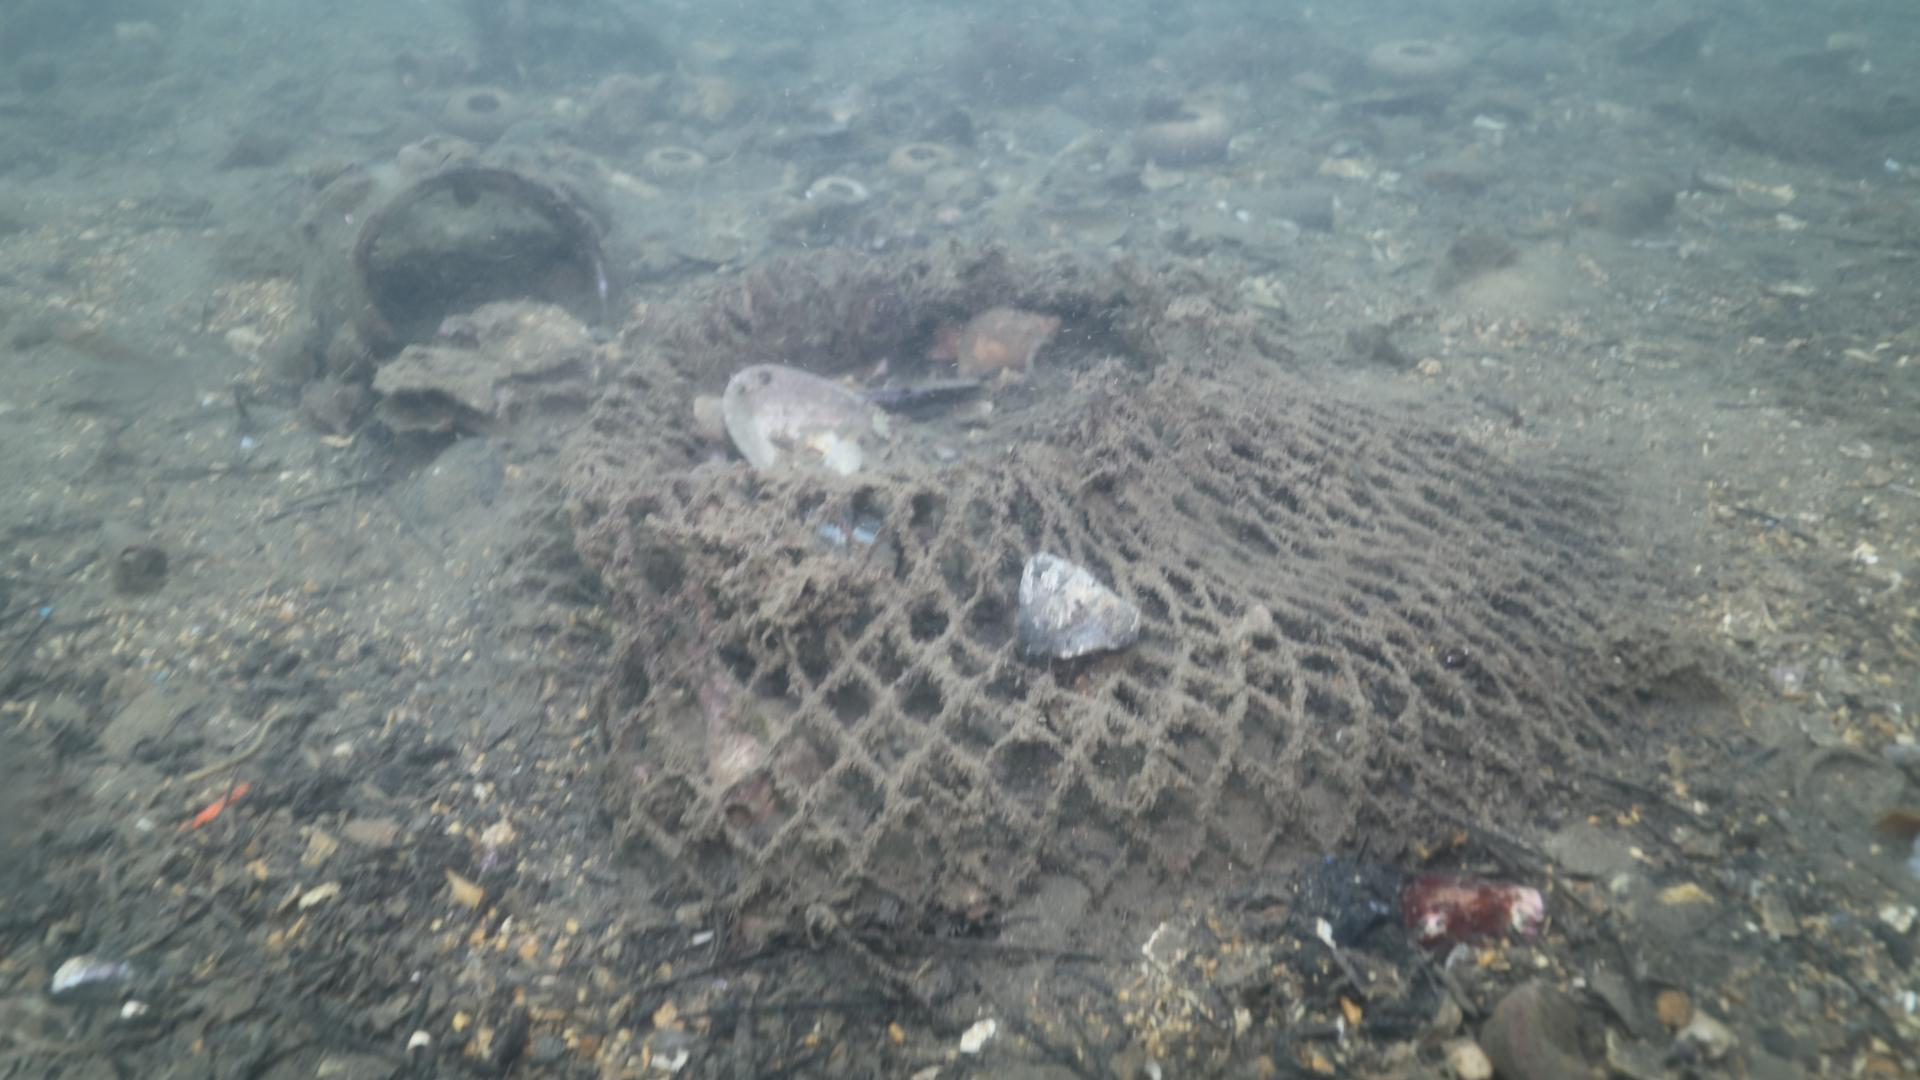fish net: (518, 251, 1629, 895)
